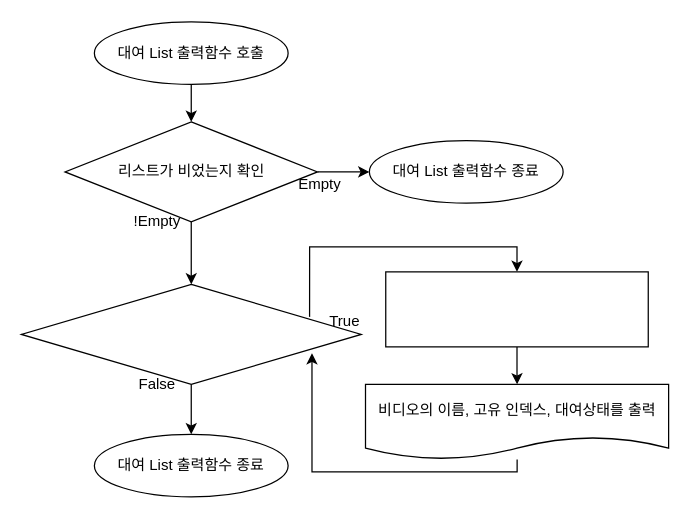
The diagram is 691 pixels wide and 519 high, and some of its shapes have lost their labels. The box of each missing label's shape, as (x1, y1, x2, y2) in pixels:
iterator 인자가 List의 .end()까지 도달하기 전까지: (20, 283, 361, 384)
해당 iterator 인자의 위치를 기반으로 List의 정보를 모두 색인한다.: (384, 271, 648, 347)
